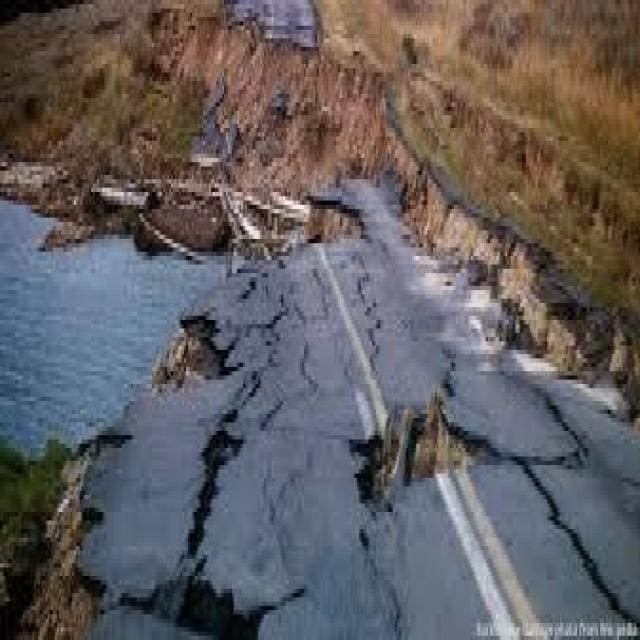Earthquake: (110, 0, 640, 636)
